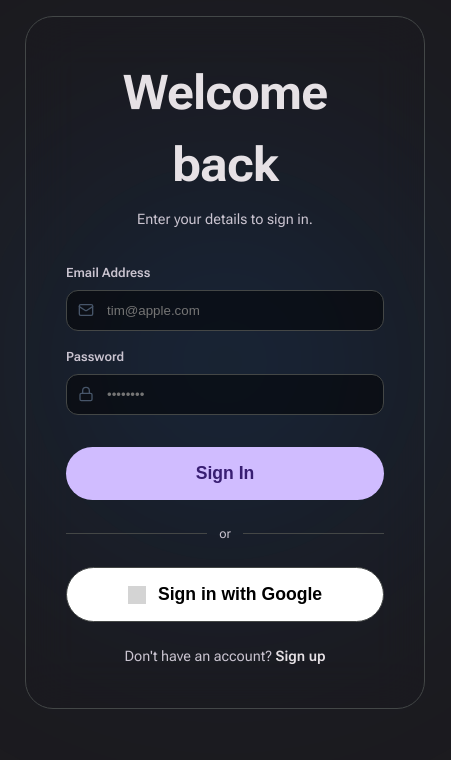
Scenario: Login › shows error message when login fails
The width and height of the screenshot is (451, 760).
Type "test@test.com" into the field with placeholder "tim@apple.com".
click(225, 310); type("test@test.com")  # box [66,290,384,331]
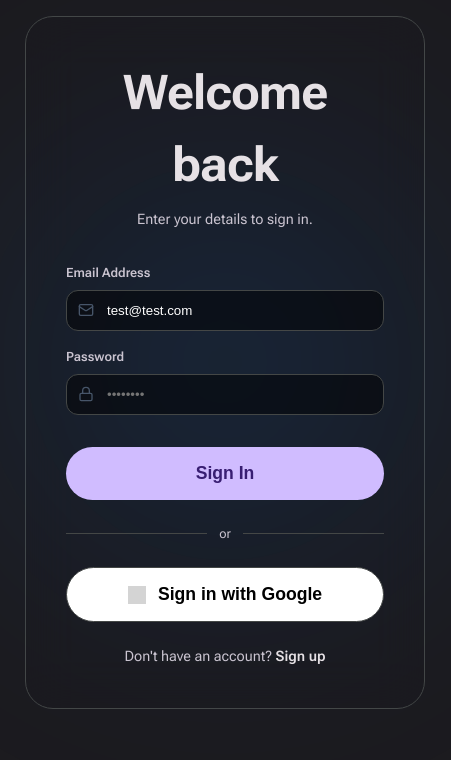
Type "wrongpass" into the password field with placeholder "••••••••".
click(225, 394); type("wrongpass")  # box [66,374,384,415]
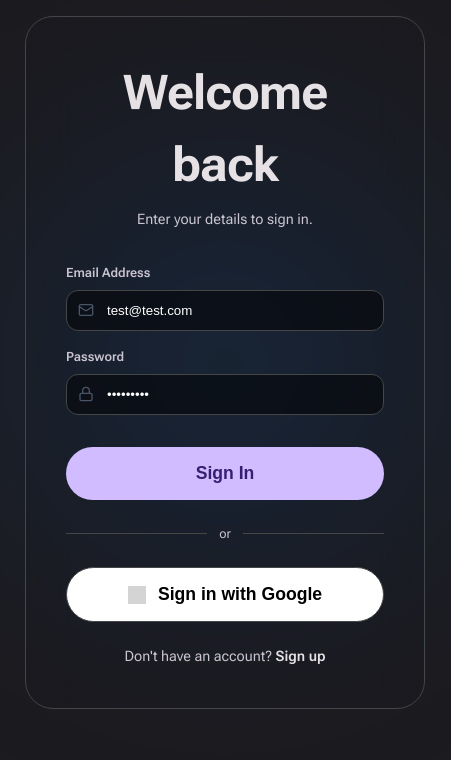
Click the button "Sign In".
click(225, 474)  # box [66,447,384,500]
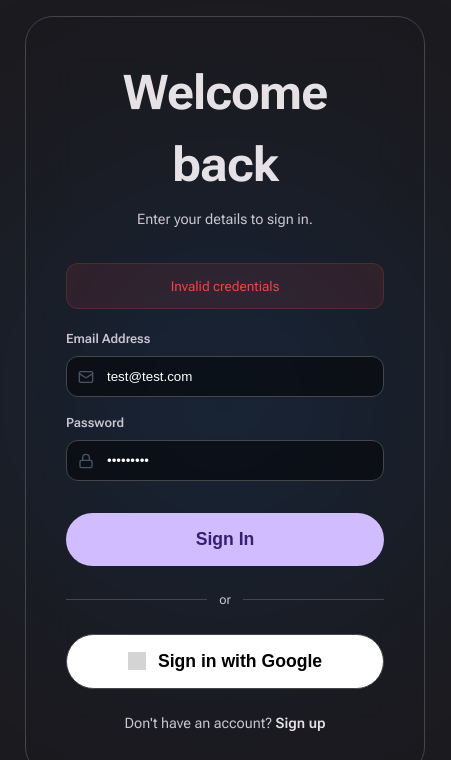
Check: the text "Invalid credentials" is shown, box [66,263,384,309]
